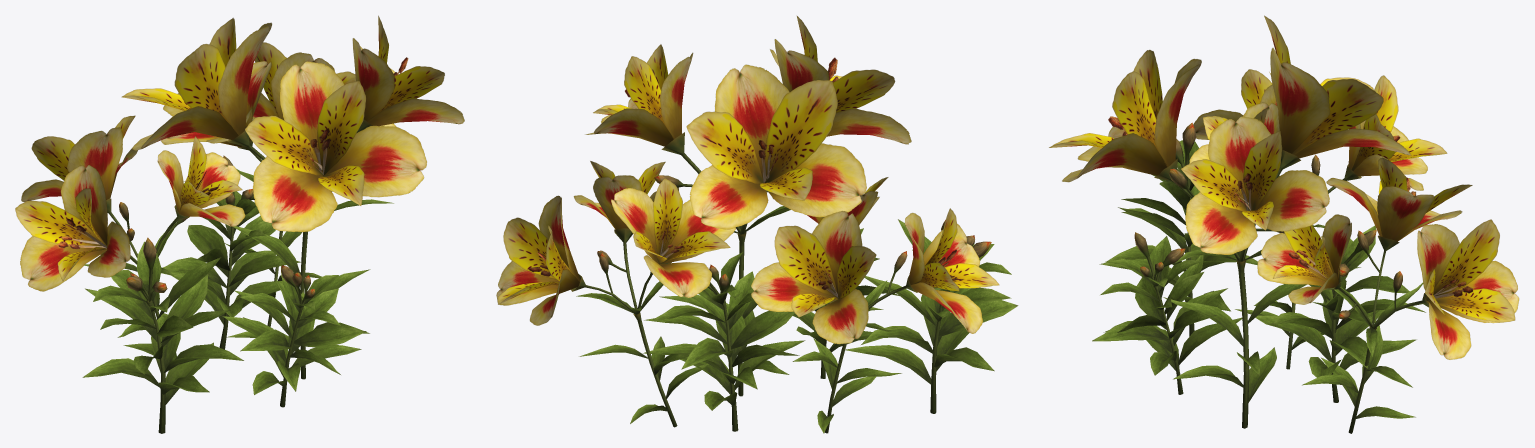
The model's file is alstro.gltf.
3 renders of one model, left to right at view 1: azimuth 30°, elevation 25°; view 2: azimuth 150°, elevation 25°; view 3: azimuth 270°, elevation 25°, orthographic. The views are drawn at different scales.
Visible parts, largest first — view 1: Alstroemeria001, Alstroemeria12, Alstroemeria09, Alstroemeria10, Alstroemeria13, Alstroemeria11; view 2: Alstroemeria001, Alstroemeria12, Alstroemeria11, Alstroemeria13, Alstroemeria09, Alstroemeria10; view 3: Alstroemeria001, Alstroemeria11, Alstroemeria10, Alstroemeria12, Alstroemeria13, Alstroemeria09.
Part boxes in pixels (bbox=[...]): Alstroemeria001: bbox=[121, 15, 464, 379]; Alstroemeria12: bbox=[15, 115, 245, 360]; Alstroemeria09: bbox=[82, 237, 243, 433]; Alstroemeria10: bbox=[222, 264, 366, 407]; Alstroemeria13: bbox=[163, 155, 300, 349]; Alstroemeria11: bbox=[161, 42, 396, 326]; Alstroemeria001: bbox=[585, 16, 911, 396]; Alstroemeria12: bbox=[751, 177, 999, 433]; Alstroemeria11: bbox=[496, 161, 735, 427]; Alstroemeria13: bbox=[643, 252, 805, 431]; Alstroemeria09: bbox=[845, 219, 1018, 413]; Alstroemeria10: bbox=[776, 228, 899, 378]; Alstroemeria001: bbox=[1049, 15, 1411, 428]; Alstroemeria11: bbox=[1257, 157, 1519, 433]; Alstroemeria10: bbox=[1092, 232, 1242, 394]; Alstroemeria12: bbox=[1189, 69, 1447, 369]; Alstroemeria13: bbox=[1255, 225, 1425, 402]; Alstroemeria09: bbox=[1099, 122, 1257, 336].
Size of the model in its own units: 128 by 105 by 123.
